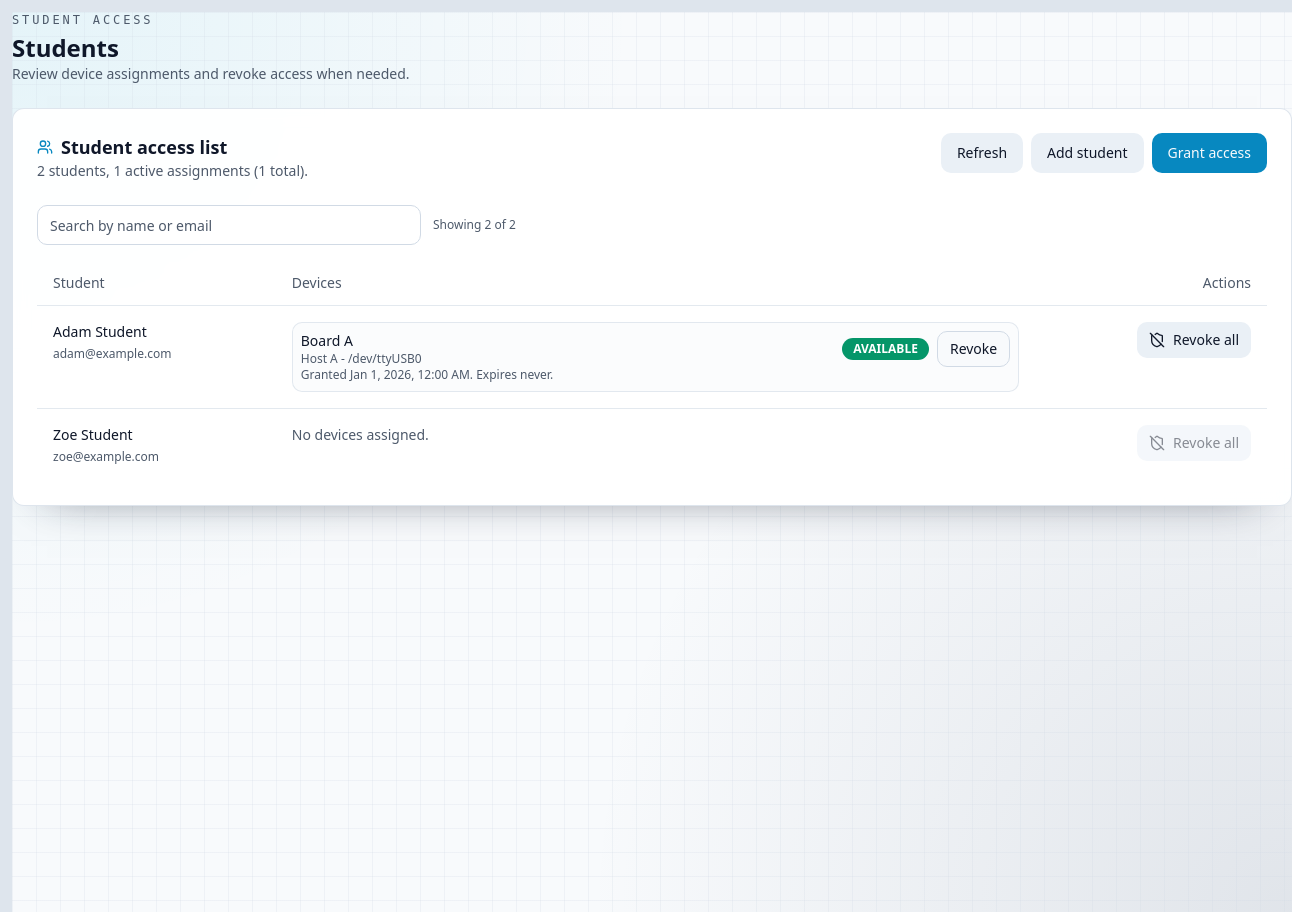
Test: StudentsPage › revokes all accesses for a student after confirmation
Expected: the text "Adam Student" is shown, [53,322,147,340]
What coordinates should you click on to do the following:
click the button "Revoke all" in the row of "Adam Student"
I would click on:
 (1194, 340)
Its box is [1137,322,1251,358].
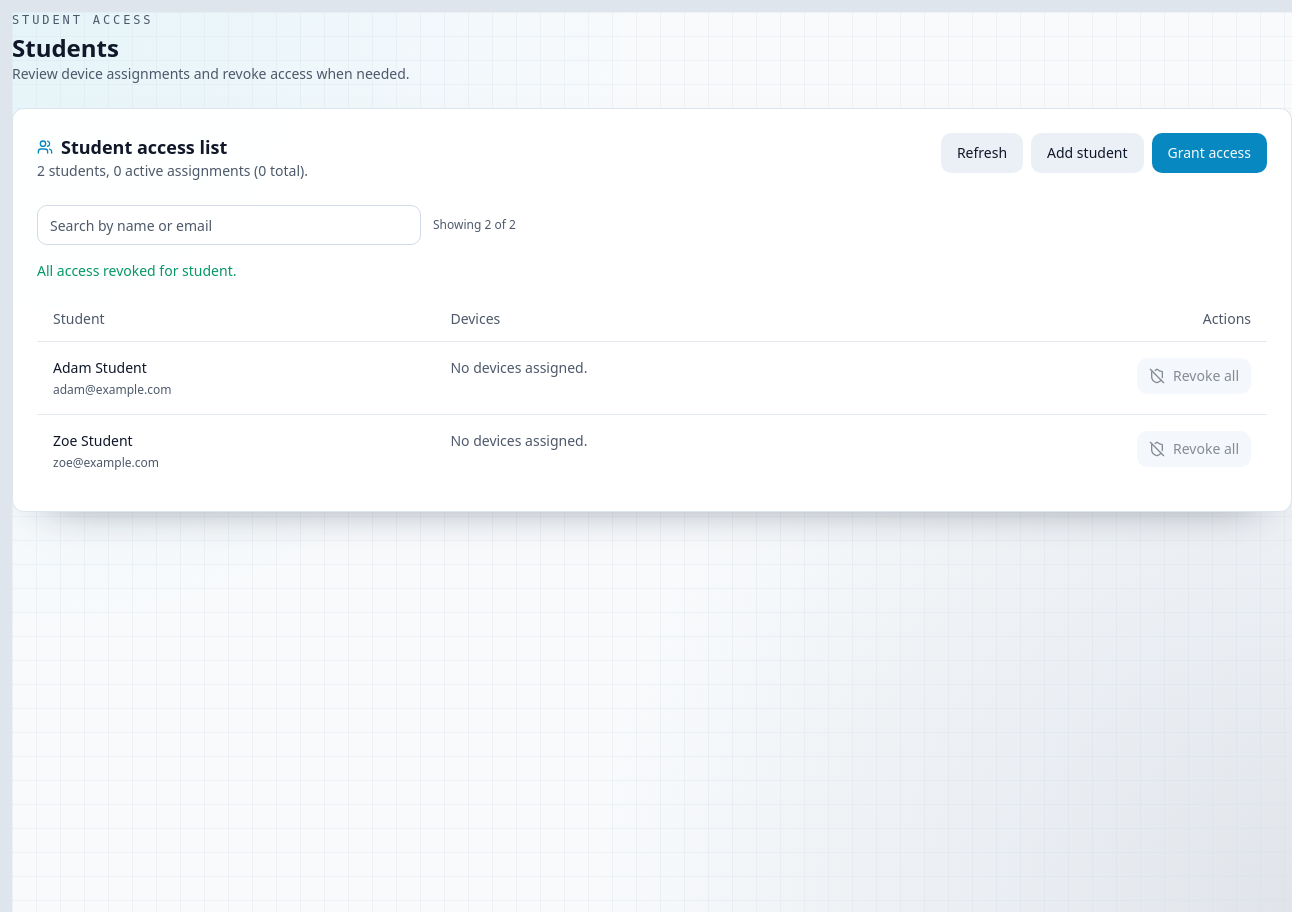
Expected: the text "All access revoked for student." is shown, [37,261,236,280]
